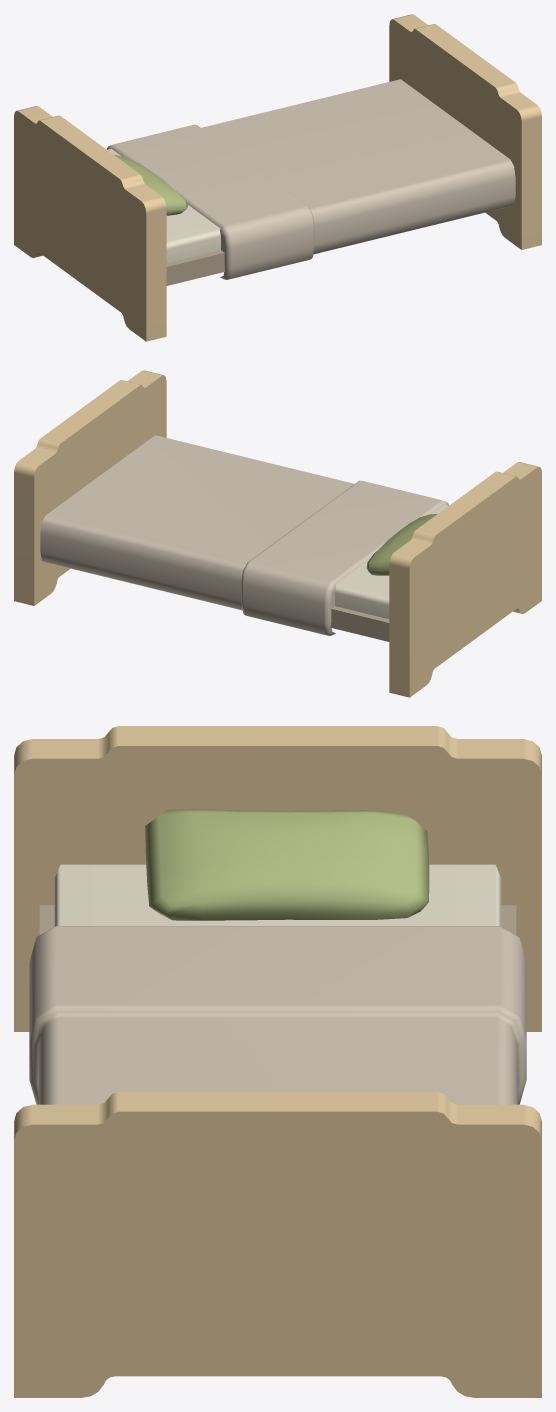
The model's file is bed.fbx.
3 views of the same model, one above another, from view 1: azimuth 30°, elevation 25°; view 2: azimuth 150°, elevation 25°; view 3: azimuth 270°, elevation 25° (orthographic). The views are drawn at different scales.
Visible parts, largest first — view 1: bed; view 2: bed; view 3: bed.
Part boxes in pixels (box(x1,y1,x2,y2)): bed: box(14, 14, 541, 341); bed: box(14, 370, 541, 697); bed: box(14, 726, 541, 1397).
Bounding box in the file's own units: 278 × 96.23 × 161.
